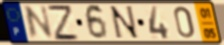0: (173, 5, 198, 41)
4: (147, 4, 173, 41)
6: (83, 3, 110, 42)
N: (108, 5, 141, 41), (23, 4, 55, 41)
Z: (45, 3, 82, 42)
